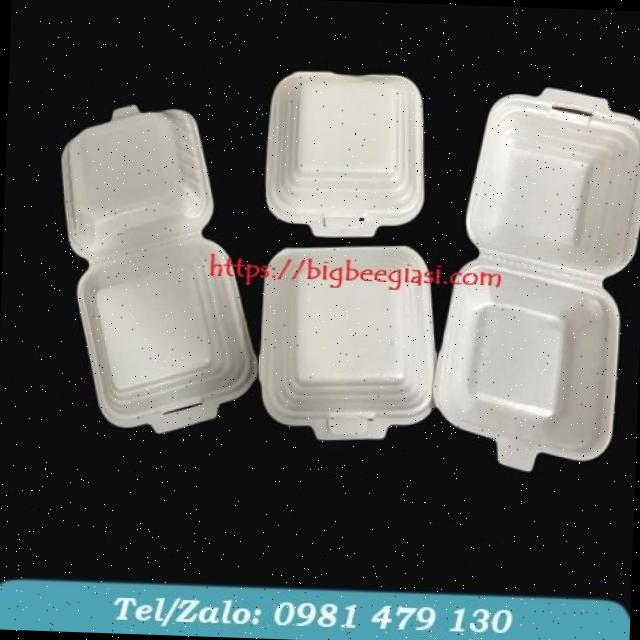styrofoam: (429, 80, 640, 475), (49, 100, 266, 437), (255, 238, 440, 444), (262, 66, 428, 241)
